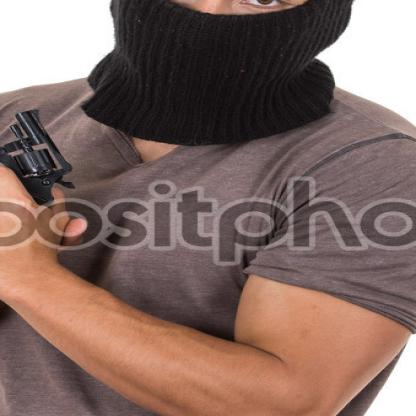gun: (0, 103, 90, 230)
